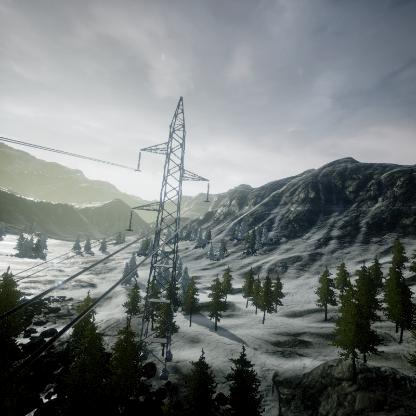tower: (125, 92, 214, 380)
